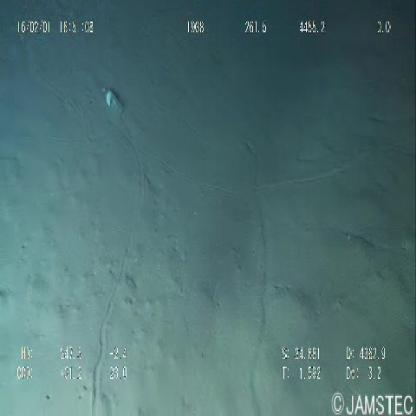Rác: (96, 83, 132, 129)
